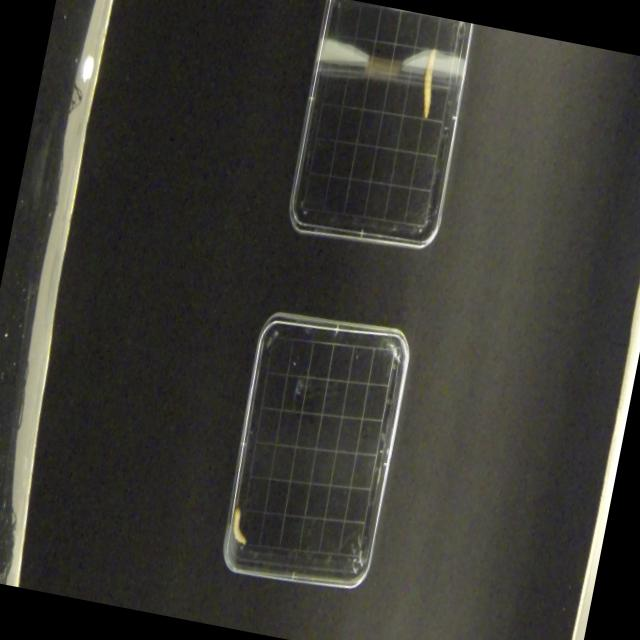larva: (411, 40, 447, 123), (227, 504, 254, 551)
